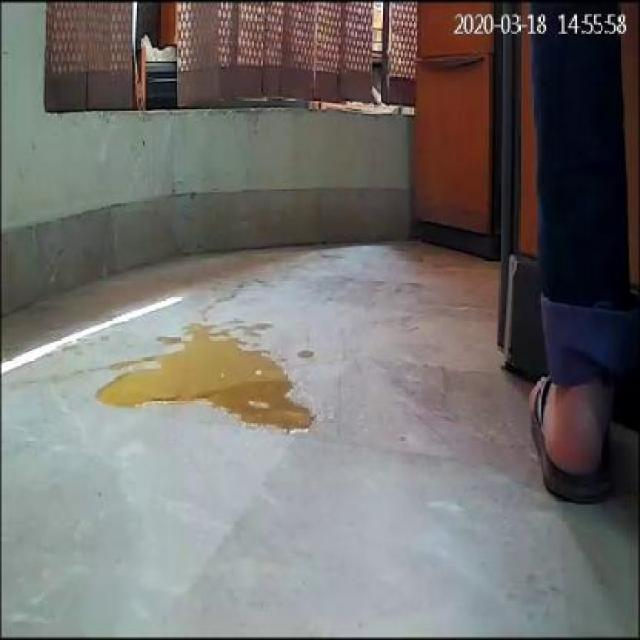spill: (98, 322, 310, 438)
